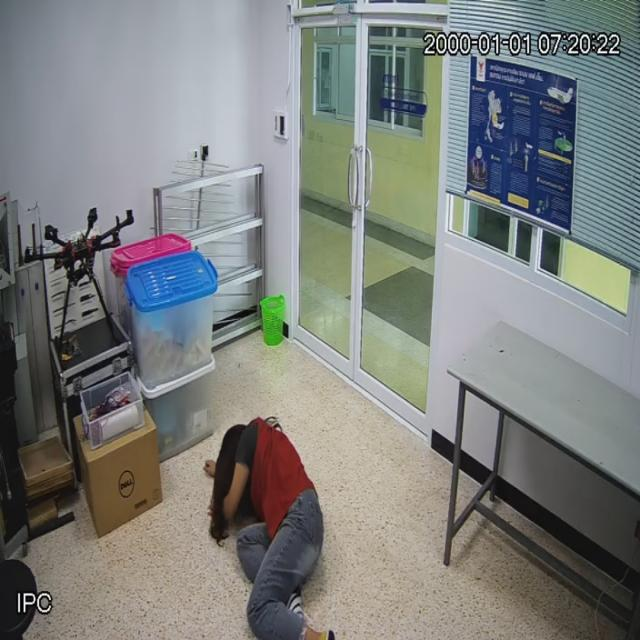fall: (205, 397, 340, 640)
